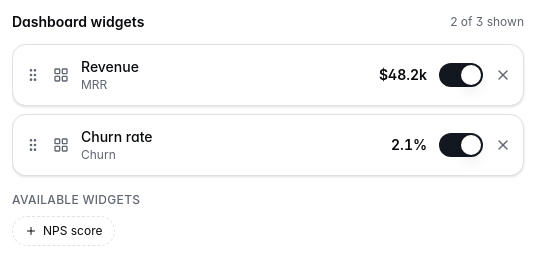
DashboardWidgetCustomizer › hides a widget with the switch but keeps it on the dashboard
Click the switch named "Show Revenue on dashboard": (461, 75) top-left (439, 63), bottom-right (483, 87)
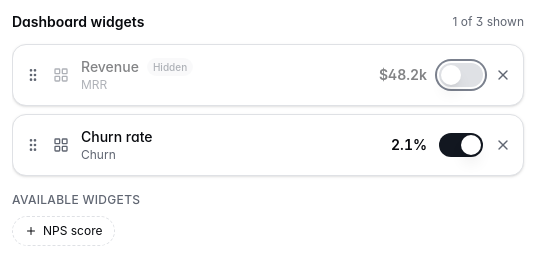
Expected: the text "Revenue" is shown, top-left (81, 57), bottom-right (139, 77)
Expected: the text "Hidden" is shown, top-left (147, 58), bottom-right (193, 76)
Expected: the text "1 of 3 shown" is shown, top-left (453, 14), bottom-right (524, 30)
